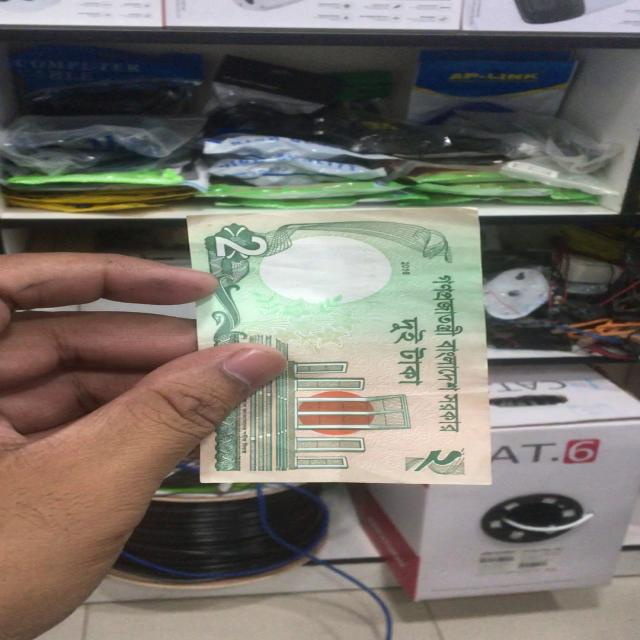Taka: (179, 204, 489, 484)
